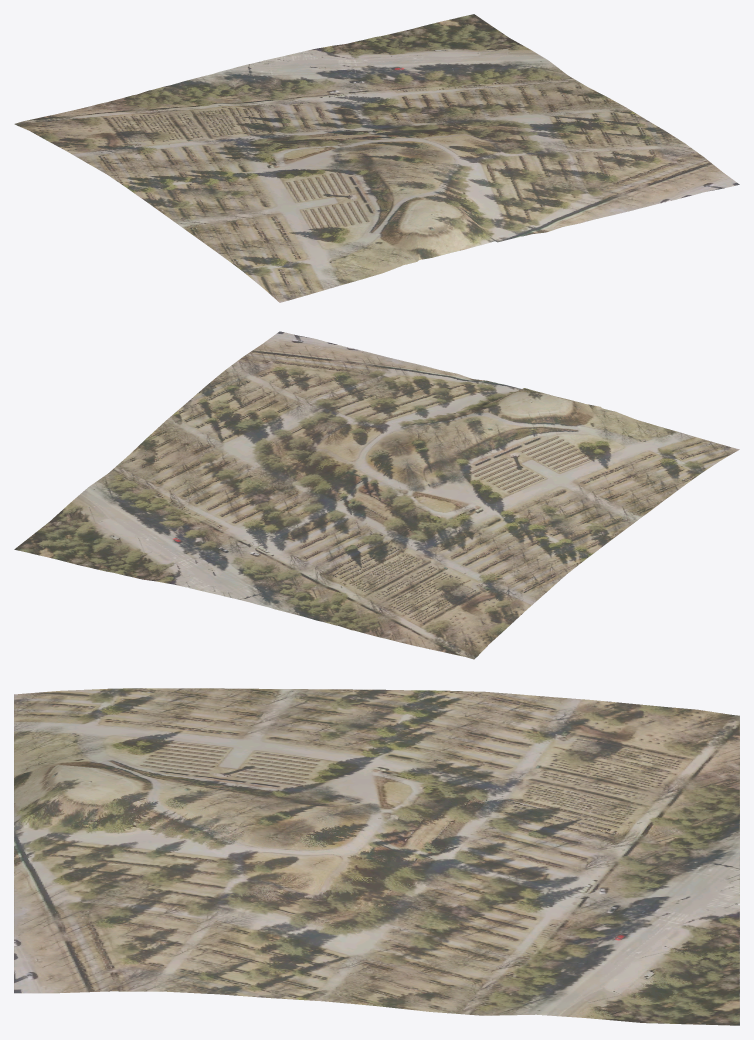
Rendered from CM_Terrain_24489230_6820408.fbx.
The picture shows the model from 3 angles, top to bottom: view 1: azimuth 30°, elevation 25°; view 2: azimuth 150°, elevation 25°; view 3: azimuth 270°, elevation 25°; orthographic projection. The views are drawn at different scales.
Visible parts, largest first — view 1: CM_Terrain_24489230_6820408_LOD0; view 2: CM_Terrain_24489230_6820408_LOD0; view 3: CM_Terrain_24489230_6820408_LOD0.
Part boxes in pixels (x1=…): CM_Terrain_24489230_6820408_LOD0: x1=14, y1=14, x2=739, y2=302; CM_Terrain_24489230_6820408_LOD0: x1=14, y1=331, x2=739, y2=659; CM_Terrain_24489230_6820408_LOD0: x1=14, y1=688, x2=739, y2=1025.
Size of what is drawn, in the model's own units: 205 by 18.05 by 205.
